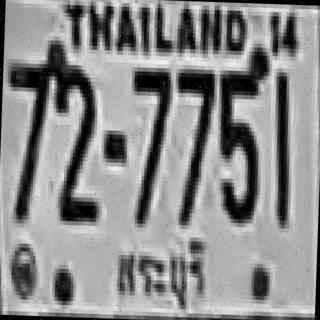N01: (270, 68, 291, 224)
N02: (54, 62, 100, 220), (51, 60, 98, 210)
N05: (214, 62, 260, 220)
N07: (0, 52, 51, 218), (127, 63, 171, 224), (172, 65, 213, 222), (173, 65, 214, 182), (174, 65, 214, 170)
